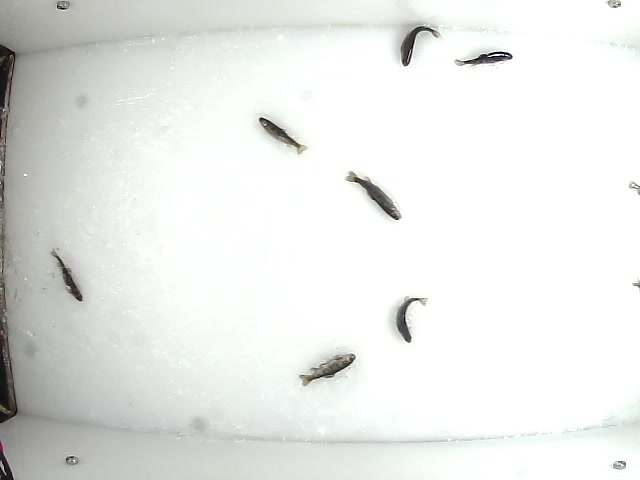fish: (344, 168, 405, 221), (295, 352, 359, 387), (396, 24, 444, 69), (258, 115, 310, 156), (48, 247, 84, 304), (395, 294, 433, 343), (450, 50, 514, 69)
